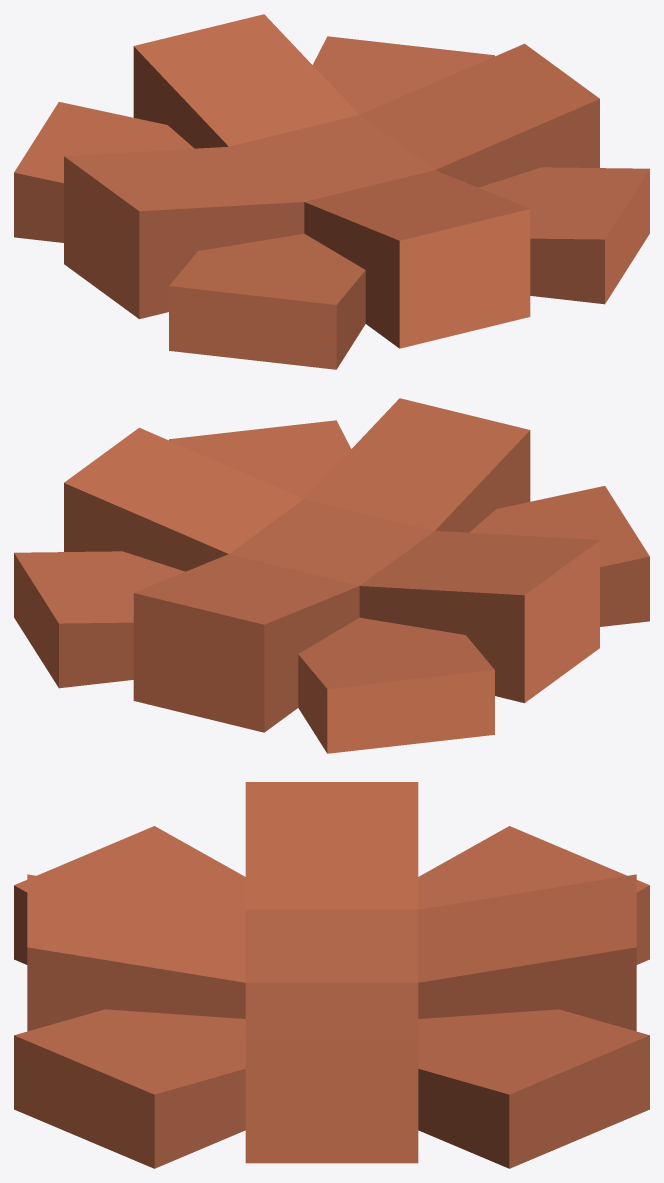
The picture shows the model from 3 angles, top to bottom: view 1: azimuth 30°, elevation 25°; view 2: azimuth 150°, elevation 25°; view 3: azimuth 270°, elevation 25°; orthographic projection. The views are drawn at different scales.
Parts seen in each view (by area): view 1: campfire_logs; view 2: campfire_logs; view 3: campfire_logs.
Part boxes in pixels (x1,y1,x2,y2): campfire_logs: (14,14,649,369); campfire_logs: (14,398,649,753); campfire_logs: (14,782,649,1168).
Bounding box in the file's own units: 0.2919 × 0.0626 × 0.2919.
